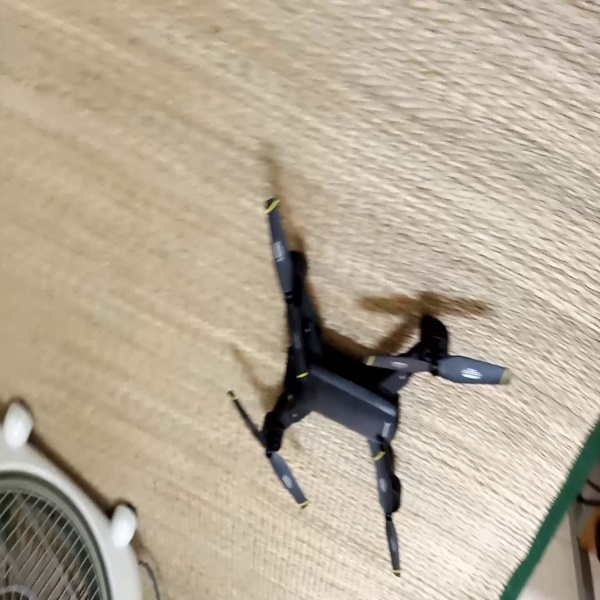drone: (226, 191, 516, 580)
